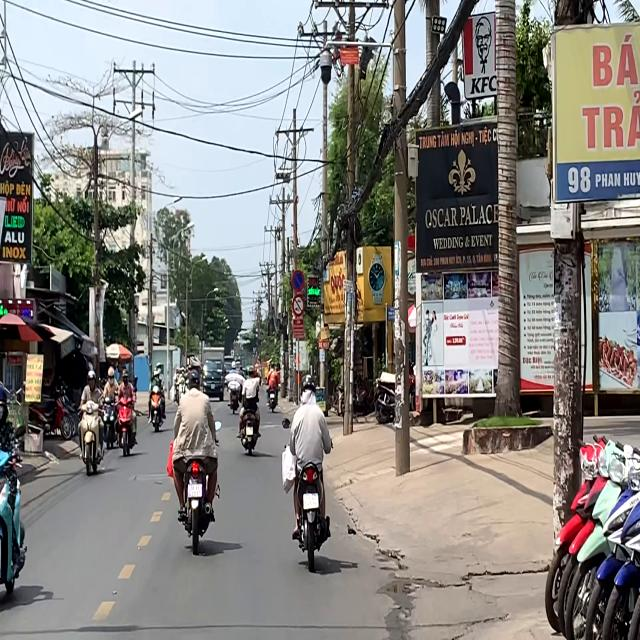P.131a: (292, 269, 304, 292)
